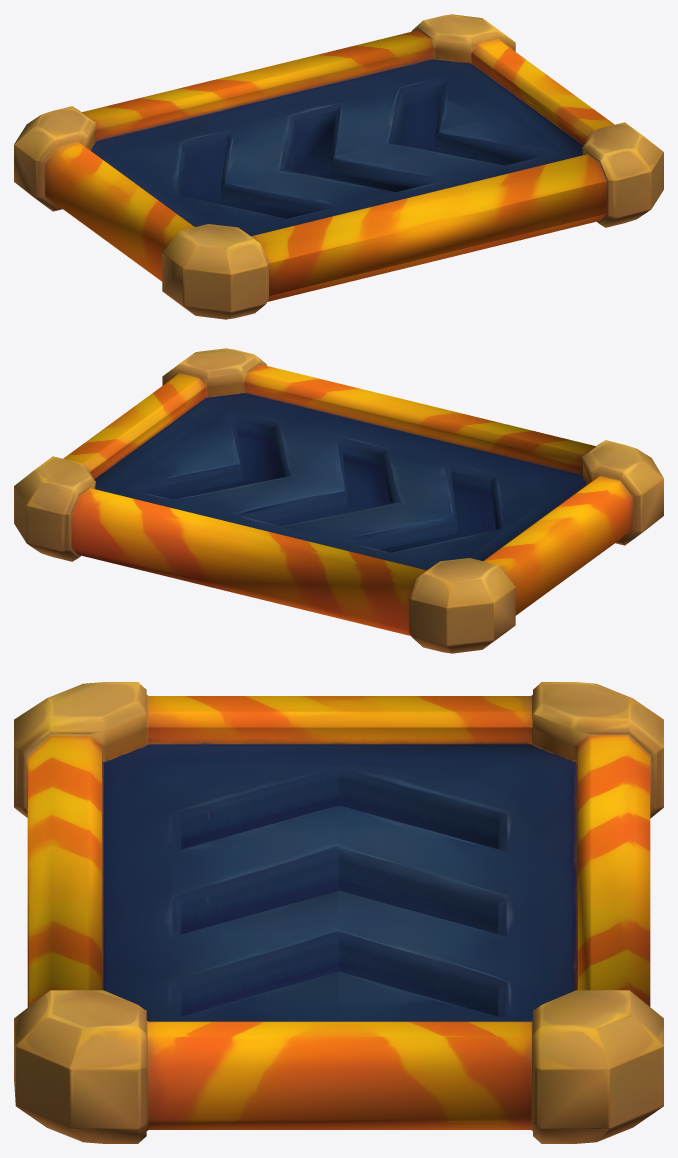
Rendered from tripo_raw.glb.
3 renders of one model, top to bottom at view 1: azimuth 30°, elevation 25°; view 2: azimuth 150°, elevation 25°; view 3: azimuth 270°, elevation 25°, orthographic. The views are drawn at different scales.
Parts seen in each view (by area): view 1: tripo_node_01f0b3d1-ca7c-4959-9527-e9ba1f455189; view 2: tripo_node_01f0b3d1-ca7c-4959-9527-e9ba1f455189; view 3: tripo_node_01f0b3d1-ca7c-4959-9527-e9ba1f455189.
Part boxes in pixels (x1,y1,x2,y2): tripo_node_01f0b3d1-ca7c-4959-9527-e9ba1f455189: (14,14,663,319); tripo_node_01f0b3d1-ca7c-4959-9527-e9ba1f455189: (14,348,663,653); tripo_node_01f0b3d1-ca7c-4959-9527-e9ba1f455189: (14,682,663,1143).
Bounding box in the file's own units: 1 × 0.1468 × 0.7378.
Materials: 1 (1 with a texture image).
